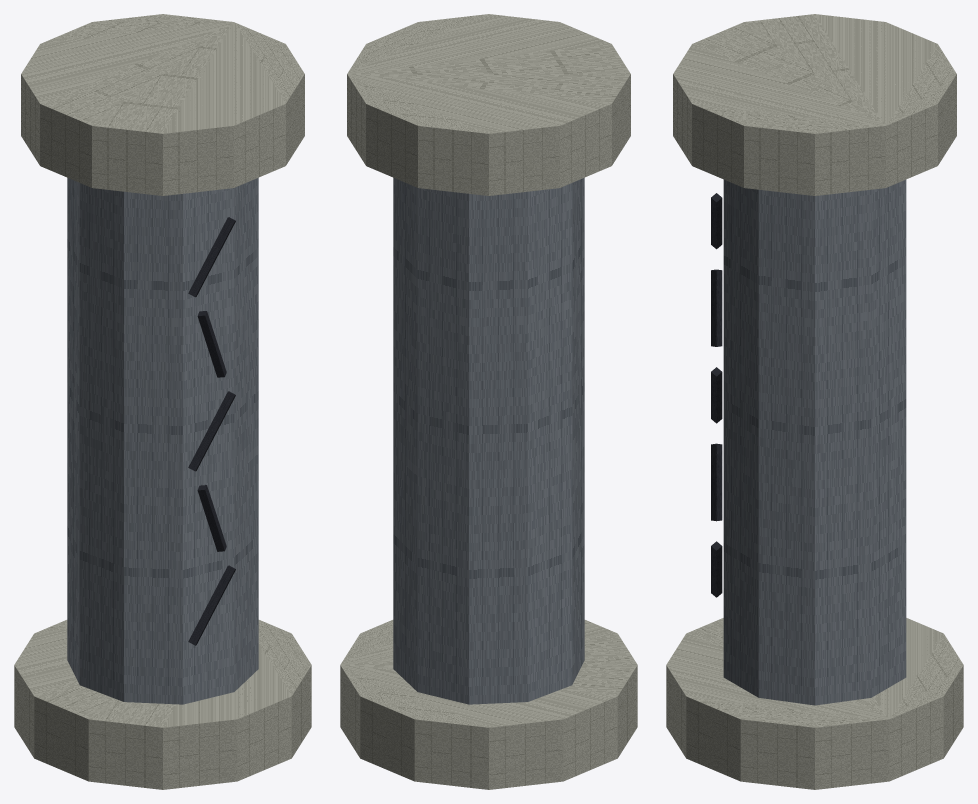
The model's file is pillar_cracked.glb.
3 views of the same model, side by side, from view 1: azimuth 30°, elevation 25°; view 2: azimuth 150°, elevation 25°; view 3: azimuth 270°, elevation 25° (orthographic).
Parts seen in each view (by area): view 1: shaft, capital, base, crack (×5); view 2: shaft, capital, base; view 3: shaft, capital, base, crack (×5).
Boxes of the visible parts, x1,y1,x2,y2 form: shaft: (67,178,258,704); capital: (21,14,304,195); base: (14,620,311,789); crack (×5): (188,217,235,645); shaft: (393,178,584,704); capital: (347,14,630,195); base: (340,620,637,789); shaft: (723,179,906,705); capital: (673,14,956,195); base: (666,618,963,789); crack (×5): (711,193,722,597).
Size of the model in its own units: 1.3 by 3.15 by 1.3.
1 material, 1 textured.
